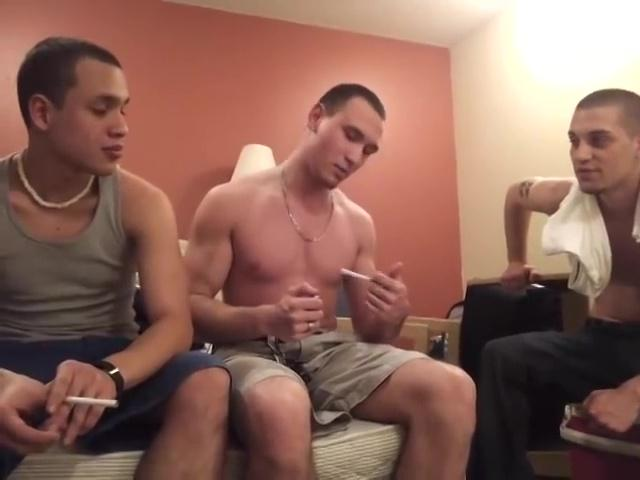cigarette: (61, 395, 124, 410), (337, 266, 375, 282)
